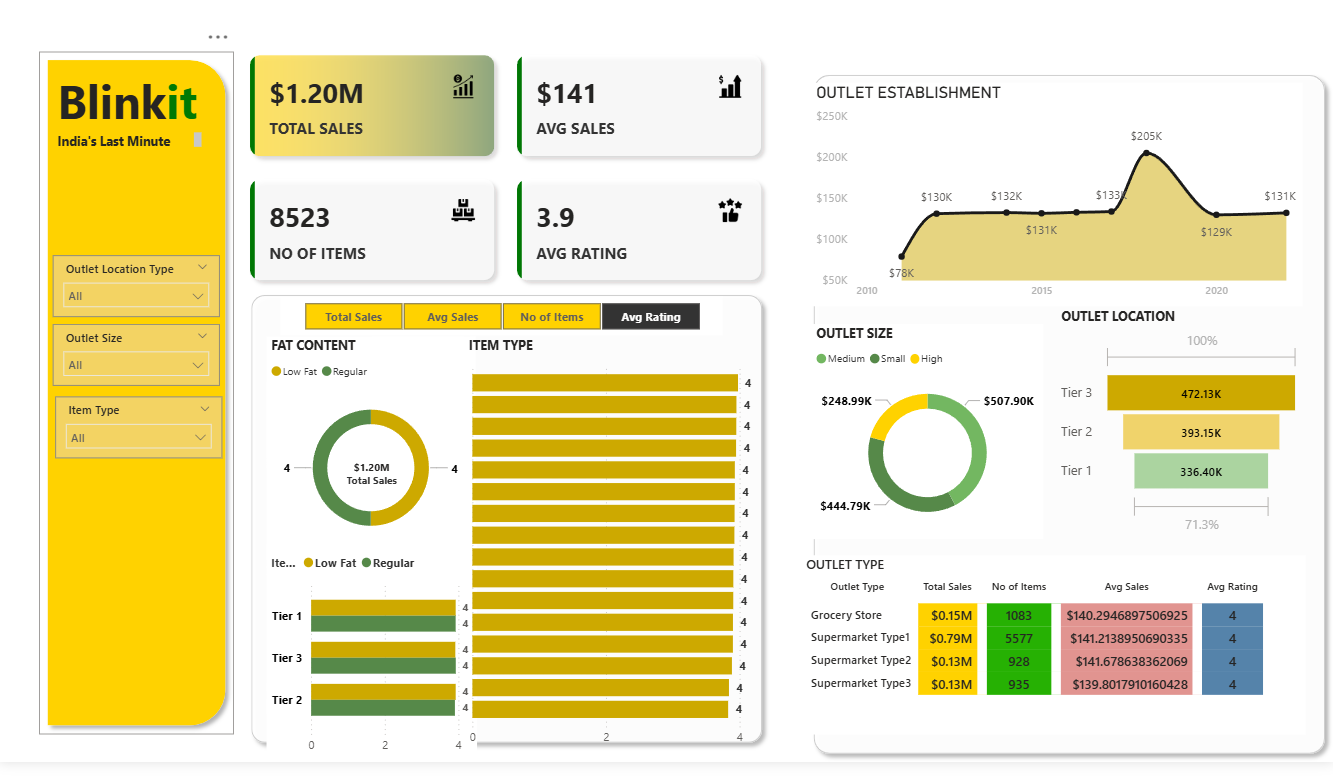

Layout of this report page (visuals, bound fields, positions):
{"tool":"powerbi","page":{"name":"Page 1","canvas":[1400,800],"ordinal":0},"visuals":[{"type":"shape","box":[41.9,55.1,204.5,715.7],"z":0},{"type":"textbox","box":[56.4,69.5,175.7,80],"z":1000},{"type":"textbox","box":[56.4,135,161.2,28.8],"z":2000},{"type":"cardVisual","fields":{"Data":["BlinkIT Grocery Data.Total Sales","BlinkIT Grocery Data.Avg Sales","BlinkIT Grocery Data.No of Items","BlinkIT Grocery Data.Avg Rating"]},"box":[246.4,41.9,570.2,270],"z":3000},{"type":"shape","box":[255.6,301.4,553.9,487.6],"z":4000},{"type":"donutChart","title":"FAT CONTENT","fields":{"Y":["BlinkIT Grocery Data.Avg Rating"],"Category":["BlinkIT Grocery Data.Item Fat Content"]},"box":[280.9,353.5,219.3,230.4],"z":5000},{"type":"slicer","fields":{"Values":["Metrics.Metrics"]},"box":[295.1,312.4,463.9,41],"z":6000},{"type":"cardVisual","fields":{"Data":["BlinkIT Grocery Data.Total Sales"]},"box":[295.1,449.7,192.5,96.3],"z":7000},{"type":"clusteredBarChart","title":"FAT BY OUTLET","fields":{"Y":["BlinkIT Grocery Data.Avg Rating"],"Category":["BlinkIT Grocery Data.Outlet Location Type"],"Series":["BlinkIT Grocery Data.Item Fat Content"]},"box":[280.9,571.2,220.9,228.8],"z":8000},{"type":"barChart","title":"ITEM TYPE","fields":{"Y":["BlinkIT Grocery Data.Avg Rating"],"Category":["BlinkIT Grocery Data.Item Type"]},"box":[487.6,353.5,310.9,438.7],"z":9000},{"type":"shape","box":[846,70.5,554.1,729.7],"z":10000},{"type":"lineChart","title":"OUTLET ESTABLISHMENT","fields":{"Category":["BlinkIT Grocery Data.Outlet Establishment Year"],"Y":["BlinkIT Grocery Data.Total Sales"]},"box":[852.1,87.8,515.2,234.6],"z":11000},{"type":"donutChart","title":"OUTLET SIZE","fields":{"Y":["BlinkIT Grocery Data.Total Sales"],"Category":["BlinkIT Grocery Data.Outlet Size"]},"box":[852.1,340.9,243,225.7],"z":12000},{"type":"funnel","title":"OUTLET LOCATION","fields":{"Category":["BlinkIT Grocery Data.Outlet Location Type"],"Y":["Sum(BlinkIT Grocery Data.Sales)"]},"box":[1109.3,323.5,260.4,243],"z":13000},{"type":"pivotTable","title":"OUTLET  TYPE","fields":{"Values":["BlinkIT Grocery Data.Total Sales","BlinkIT Grocery Data.No of Items","BlinkIT Grocery Data.Avg Sales","BlinkIT Grocery Data.Avg Rating"],"Rows":["BlinkIT Grocery Data.Outlet Type"]},"box":[841.1,583.9,528.6,187.8],"z":14000},{"type":"slicer","fields":{"Values":["BlinkIT Grocery Data.Outlet Location Type"]},"box":[56.8,268.3,175.2,64.7],"z":15000},{"type":"slicer","fields":{"Values":["BlinkIT Grocery Data.Outlet Size"]},"box":[56.8,340.9,175.2,64.7],"z":16000},{"type":"slicer","fields":{"Values":["BlinkIT Grocery Data.Item Type"]},"box":[58.4,416.6,175.2,64.7],"z":17000}]}

Visuals, with their boxes in screenshot pixels (x1, y1, x2, y2), scaled from the page's 1400x800 canvas onto the 1333x779 screenshot:
shape: <box>40,54,235,751</box>
textbox: <box>54,68,221,146</box>
textbox: <box>54,131,207,160</box>
cardVisual - BlinkIT Grocery Data.Total Sales x BlinkIT Grocery Data.Avg Sales: <box>235,41,778,304</box>
shape: <box>243,293,771,768</box>
"FAT CONTENT" donutChart: <box>267,344,476,569</box>
slicer - Metrics.Metrics: <box>281,304,723,344</box>
cardVisual - BlinkIT Grocery Data.Total Sales: <box>281,438,464,532</box>
"FAT BY OUTLET" clusteredBarChart: <box>267,556,478,778</box>
"ITEM TYPE" barChart: <box>464,344,760,771</box>
shape: <box>806,69,1332,778</box>
"OUTLET ESTABLISHMENT" lineChart: <box>811,85,1302,314</box>
"OUTLET SIZE" donutChart: <box>811,332,1043,552</box>
"OUTLET LOCATION" funnel: <box>1056,315,1304,552</box>
"OUTLET  TYPE" pivotTable: <box>801,569,1304,751</box>
slicer - BlinkIT Grocery Data.Outlet Location Type: <box>54,261,221,324</box>
slicer - BlinkIT Grocery Data.Outlet Size: <box>54,332,221,395</box>
slicer - BlinkIT Grocery Data.Item Type: <box>56,406,222,469</box>
